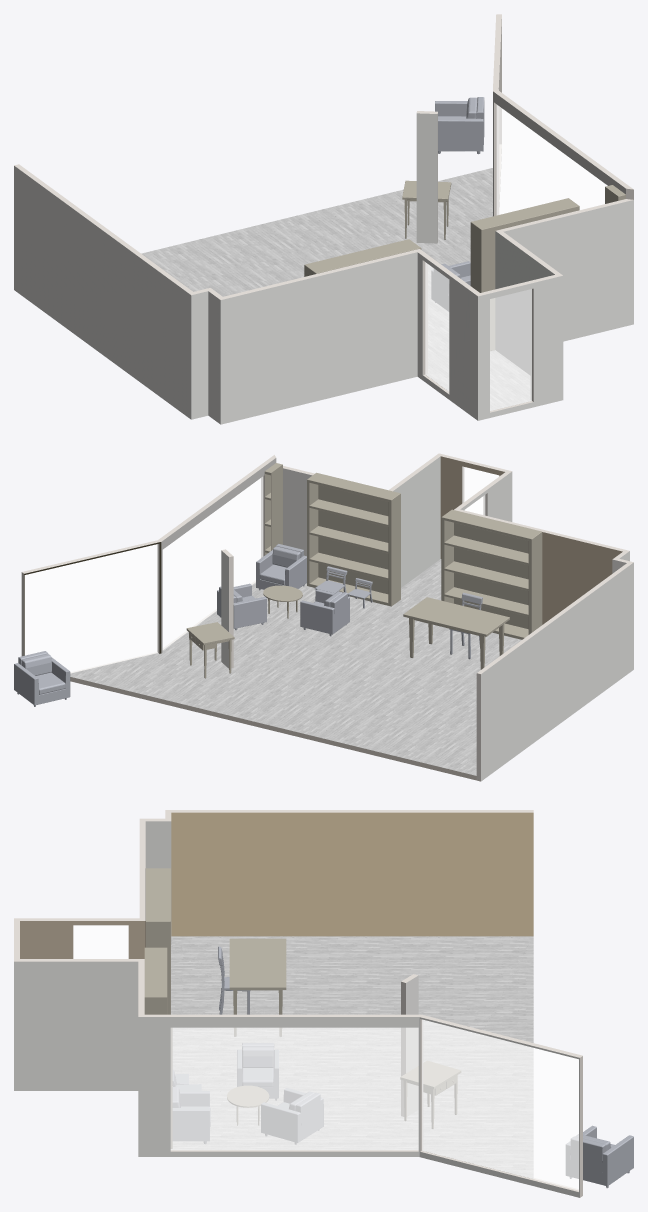
File: LibraryBack.glb
The picture shows the model from 3 angles, top to bottom: view 1: azimuth 30°, elevation 25°; view 2: azimuth 150°, elevation 25°; view 3: azimuth 270°, elevation 25°; orthographic projection. The views are drawn at different scales.
Visible parts, largest first — view 1: wall_5, wall_2, floor_Living_Room, wall_0, door_0, door_4, wall_4, door_3, door_7, wall_8, wall_25, storage_shelf1 (+16 smaller); view 2: floor_Living_Room, wall_2, door_2, door_6, storage_shelf1, storage_shelf2, door_0, door_4, wall_21, wall_25, table_dining_rect0, sofa_single1 (+22 smaller); view 3: floor_Living_Room, wall_15, door_0, door_4, door_2, door_6, wall_7, wall_10, table_dining_rect0, wall_27, sofa_single1, sofa_single2 (+16 smaller).
Part boxes in pixels (x1,y1,x2,y2): wall_5: [220, 252, 417, 424]; wall_2: [14, 166, 191, 419]; floor_Living_Room: [141, 168, 531, 410]; wall_0: [503, 200, 633, 341]; door_0: [497, 105, 607, 214]; door_4: [497, 105, 606, 214]; wall_4: [478, 276, 563, 420]; door_3: [490, 289, 531, 410]; door_7: [490, 289, 531, 410]; wall_8: [417, 252, 477, 420]; wall_25: [495, 231, 554, 375]; storage_shelf1: [470, 198, 579, 350]; floor_Living_Room: [70, 559, 521, 775]; wall_2: [481, 562, 633, 781]; door_2: [25, 544, 157, 672]; door_6: [25, 544, 157, 672]; storage_shelf1: [307, 472, 400, 606]; storage_shelf2: [441, 509, 542, 639]; door_0: [163, 477, 262, 649]; door_4: [163, 477, 262, 649]; wall_21: [542, 532, 622, 624]; wall_25: [393, 456, 440, 587]; table_dining_rect0: [403, 597, 509, 669]; sofa_single1: [14, 651, 70, 706]; floor_Living_Room: [171, 936, 533, 1178]; wall_15: [171, 812, 533, 936]; door_0: [171, 1028, 418, 1149]; door_4: [171, 1028, 418, 1149]; door_2: [422, 1019, 578, 1190]; door_6: [422, 1020, 578, 1190]; wall_7: [14, 961, 138, 1090]; wall_10: [138, 1017, 419, 1156]; table_dining_rect0: [229, 938, 286, 1036]; wall_27: [20, 921, 145, 958]; sofa_single1: [566, 1125, 633, 1188]; sofa_single2: [261, 1088, 323, 1144].
Size of the model in its own units: 10.08 by 2.55 by 10.21.
39 materials, 1 textured.
